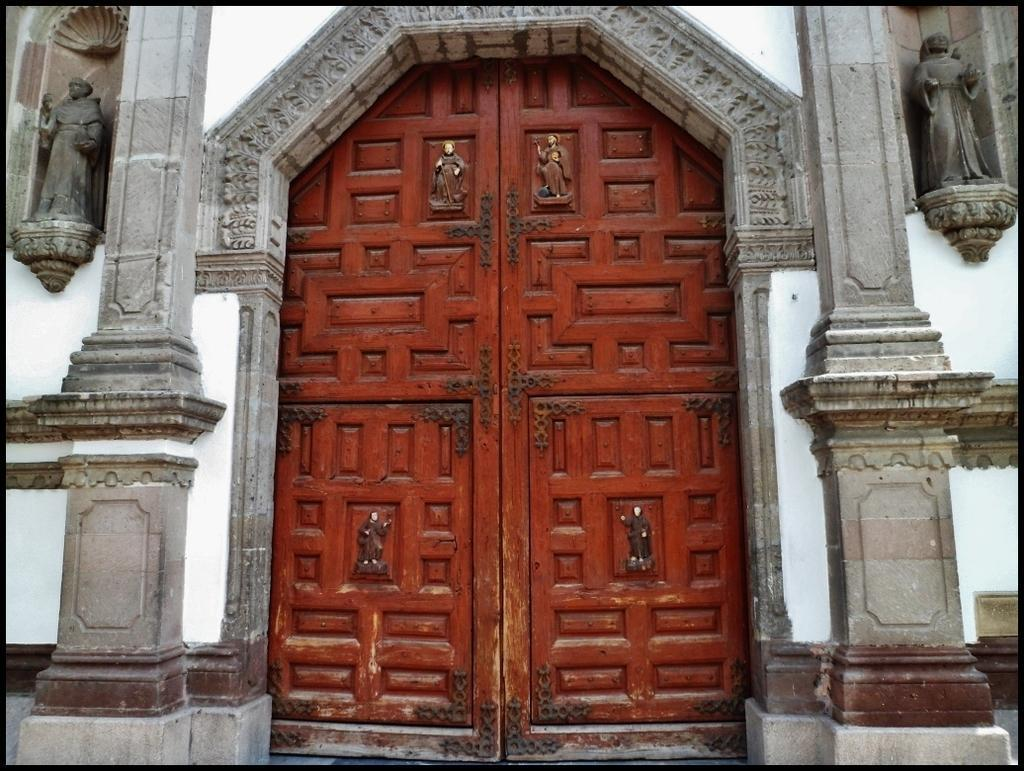door: (498, 165, 750, 755), (302, 165, 494, 746)
